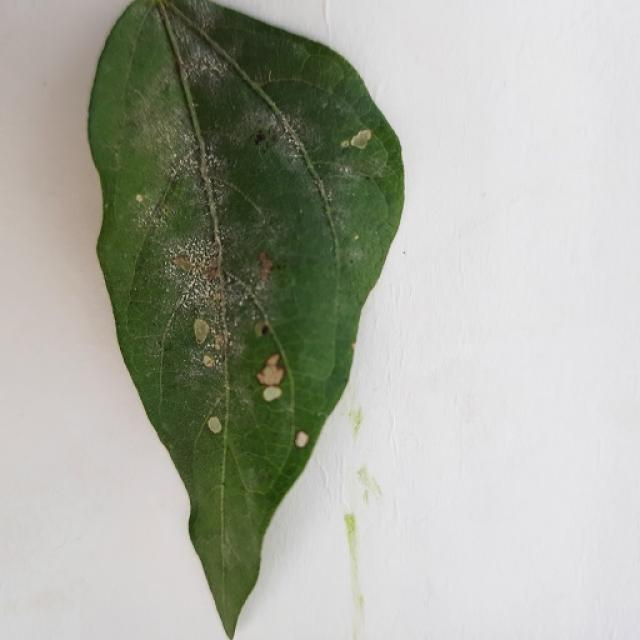Blackgram: (86, 0, 404, 632)
Powdery_Mildew: (248, 100, 330, 181), (148, 111, 223, 199), (170, 238, 237, 310), (186, 336, 247, 398), (160, 0, 225, 38), (184, 45, 233, 89), (138, 182, 175, 239), (341, 149, 362, 189)
